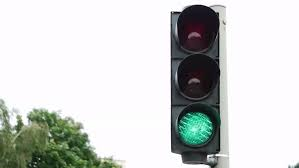green: (167, 2, 225, 160), (173, 6, 221, 153), (179, 13, 215, 148)
